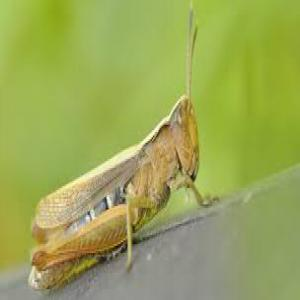locust: (35, 43, 219, 289)
